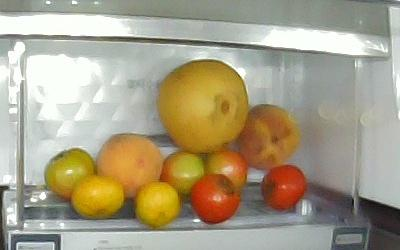peach: (96, 132, 163, 198), (235, 104, 299, 170)
pear: (157, 60, 249, 152)
tangerine: (73, 175, 126, 220), (134, 181, 179, 226)
tomato: (44, 147, 96, 199), (191, 174, 239, 225), (202, 147, 247, 195), (261, 165, 307, 211), (161, 149, 204, 195)
